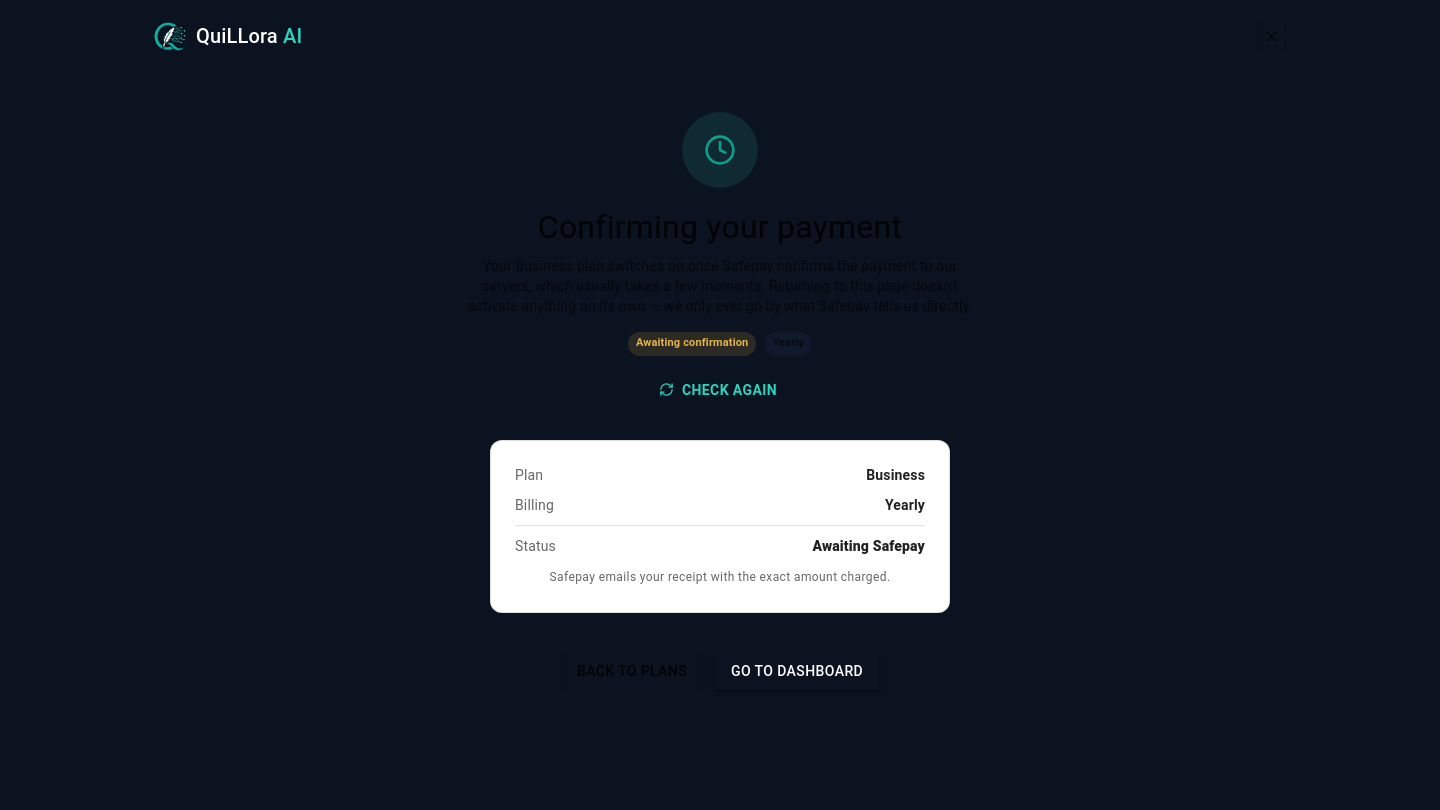
Test: Returning from Safepay › can re-check, and picks up an activation that lands after the redirect
Expected: the heading "Confirming your payment" is shown, [538, 208, 902, 246]
Click the button "Check again": (720, 390) [655, 372, 785, 408]
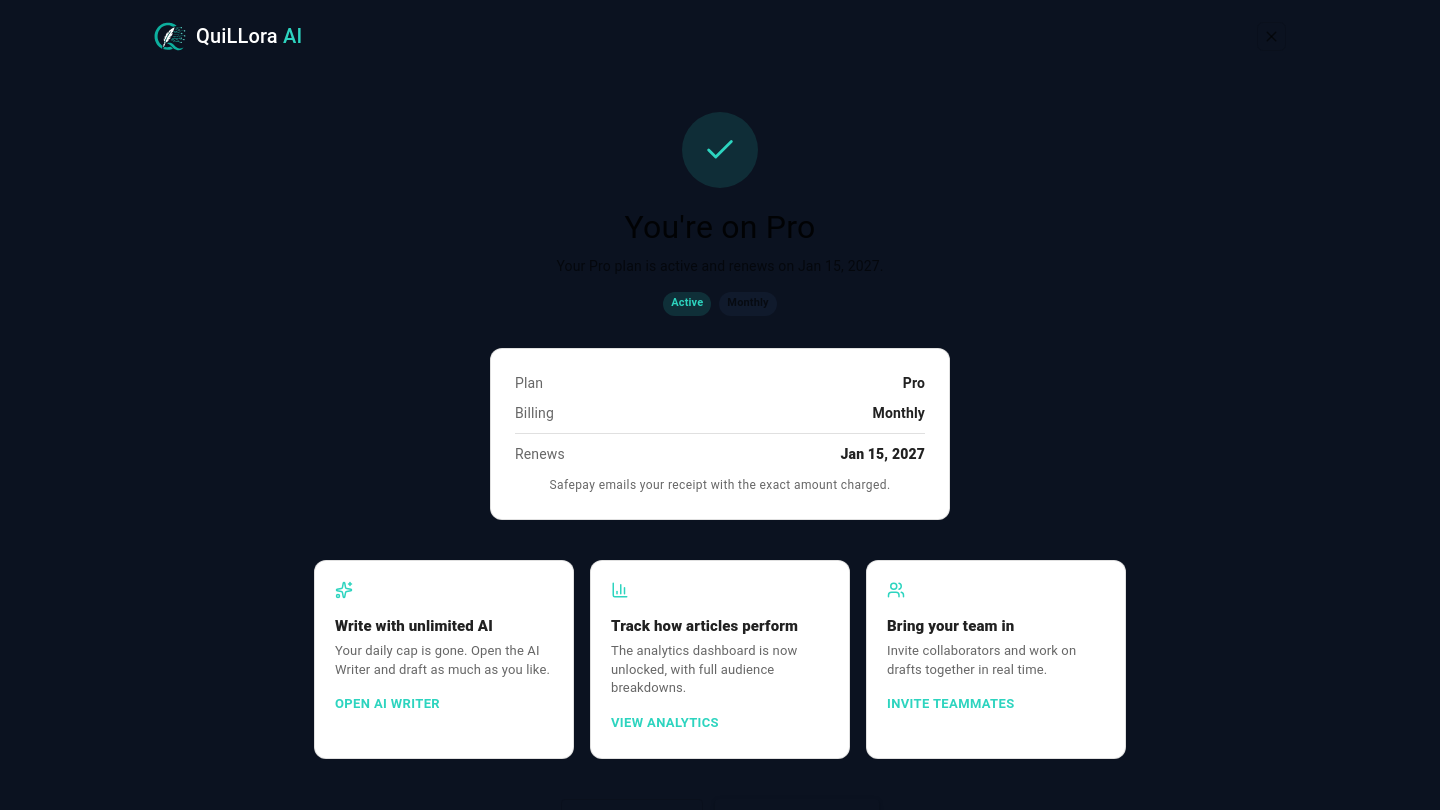
Result: the heading "You're on Pro" is shown at [624, 208, 816, 246]
